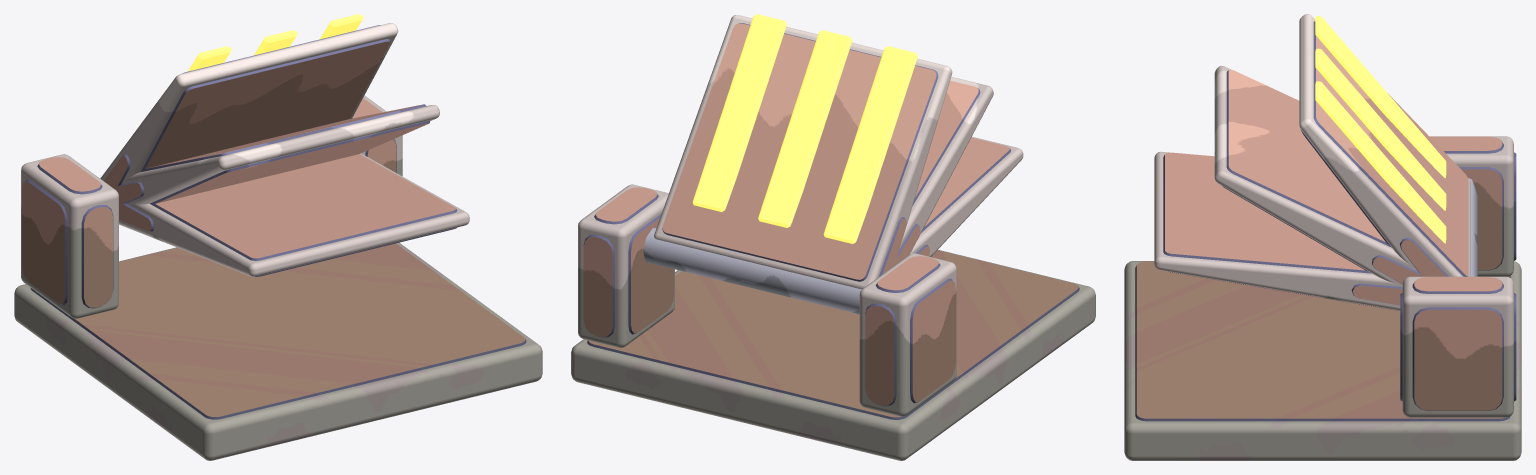
File: R4X_RampDeployer.glb
3 renders of one model, left to right at view 1: azimuth 30°, elevation 25°; view 2: azimuth 150°, elevation 25°; view 3: azimuth 270°, elevation 25°, orthographic. The views are drawn at different scales.
Parts seen in each view (by area): view 1: R4X_RampDeployer_Body; view 2: R4X_RampDeployer_Body; view 3: R4X_RampDeployer_Body.
Boxes of the visible parts, x1=… form: R4X_RampDeployer_Body: x1=14, y1=14, x2=542, y2=460; R4X_RampDeployer_Body: x1=571, y1=14, x2=1095, y2=460; R4X_RampDeployer_Body: x1=1124, y1=14, x2=1521, y2=460.
Size of the model in its own units: 0.514 by 0.4662 by 0.514.
Materials: 5 (4 with a texture image).
